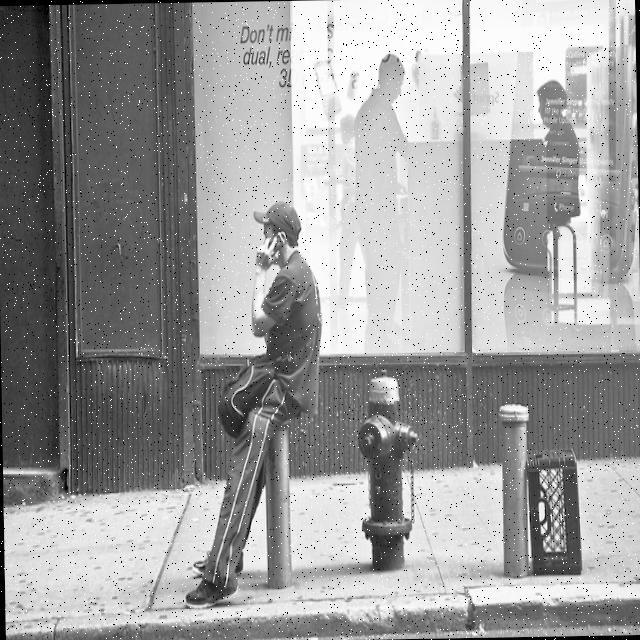fire_hydrant: (358, 366, 416, 566)
